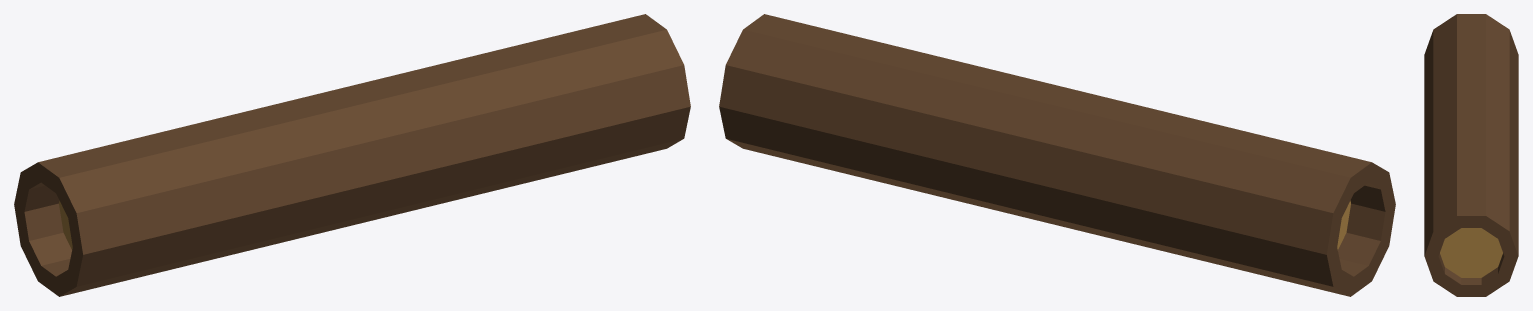
File: Log.fbx
3 renders of one model, left to right at view 1: azimuth 30°, elevation 25°; view 2: azimuth 150°, elevation 25°; view 3: azimuth 270°, elevation 25°, orthographic. The views are drawn at different scales.
Visible parts, largest first — view 1: Cylinder; view 2: Cylinder; view 3: Cylinder, Cylinder.002.
Boxes of the visible parts, bbox=[...] form: Cylinder: bbox=[14, 14, 690, 296]; Cylinder: bbox=[719, 14, 1395, 296]; Cylinder: bbox=[1424, 14, 1518, 296]; Cylinder.002: bbox=[1440, 228, 1502, 277].
Bounding box in the file's own units: 344 × 64.44 × 67.75.
